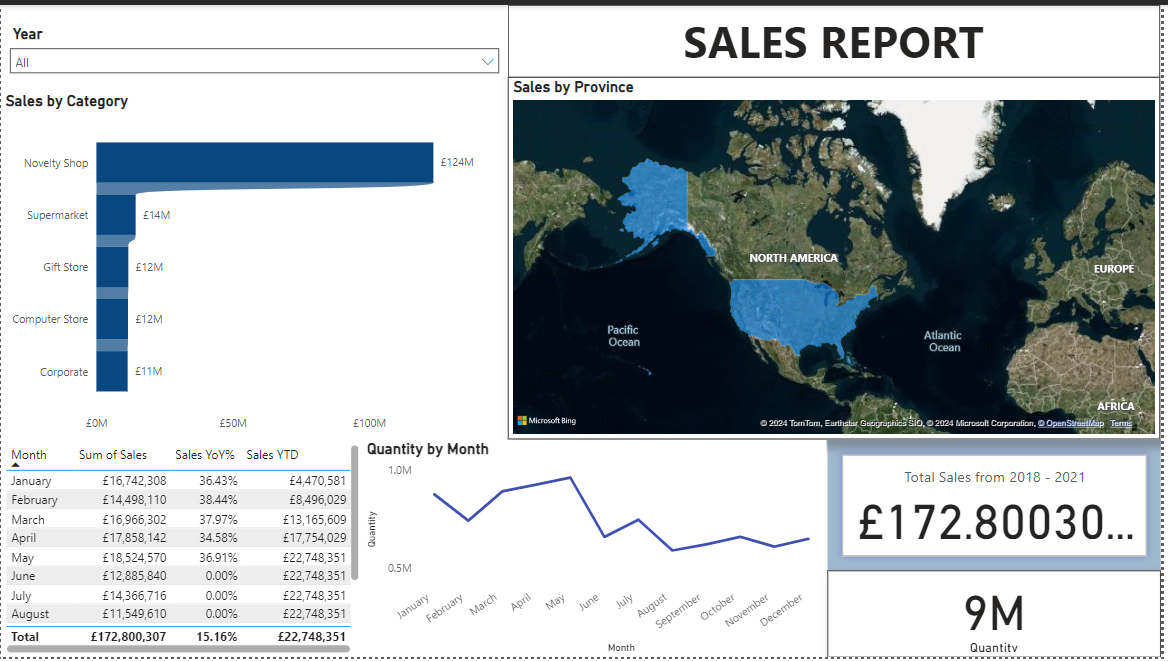

What the dashboard file says about the page in this screenshot:
{"tool":"powerbi","page":{"name":"Page 1","canvas":[1280,720],"ordinal":0},"visuals":[{"type":"barChart","title":"Sales by Category","fields":{"Category":["MasterCustomer.CustomerCategoryName"],"Y":["Sum(InvoiceData.Sales)"]},"box":[0,96,560,384],"z":0},{"type":"slicer","fields":{"Values":["InvoiceData.Date.Variation.Date Hierarchy.Year"]},"box":[0,16,560,80],"z":1000},{"type":"tableEx","fields":{"Values":["InvoiceData.Date.Variation.Date Hierarchy.Month","Sum(InvoiceData.Sales)","InvoiceData.Sales YoY%","InvoiceData.Sales YTD"]},"box":[0,480,400,240],"z":2000},{"type":"cardVisual","fields":{"Data":["Sum(InvoiceData.Sales)"]},"box":[912,480,368,144],"z":3000},{"type":"filledMap","title":"Sales by Province","fields":{"Category":["MasterCustomer.Province"]},"box":[560,80,720,400],"z":4000},{"type":"lineChart","fields":{"Y":["Sum(InvoiceData.Quantity)"],"Category":["InvoiceData.Date.Variation.Date Hierarchy.Month"]},"box":[400,480,512,240],"z":4001},{"type":"textbox","box":[560,0,720,80],"z":4002},{"type":"card","fields":{"Values":["Sum(InvoiceData.Quantity)"]},"box":[912,624,368,96],"z":4003}]}

Visuals, with their boxes in screenshot pixels (x1, y1, x2, y2), scaled from the page's 1280x720 canvas onto the 1168x661 screenshot:
"Sales by Category" barChart: x1=0, y1=88, x2=511, y2=441
slicer - InvoiceData.Date.Variation.Date Hierarchy.Year: x1=0, y1=15, x2=511, y2=88
tableEx - InvoiceData.Date.Variation.Date Hierarchy.Month x Sum(InvoiceData.Sales): x1=0, y1=441, x2=365, y2=660
cardVisual - Sum(InvoiceData.Sales): x1=832, y1=441, x2=1167, y2=573
"Sales by Province" filledMap: x1=511, y1=73, x2=1167, y2=441
lineChart - Sum(InvoiceData.Quantity) x InvoiceData.Date.Variation.Date Hierarchy.Month: x1=365, y1=441, x2=832, y2=660
textbox: x1=511, y1=0, x2=1167, y2=73
card - Sum(InvoiceData.Quantity): x1=832, y1=573, x2=1167, y2=660
